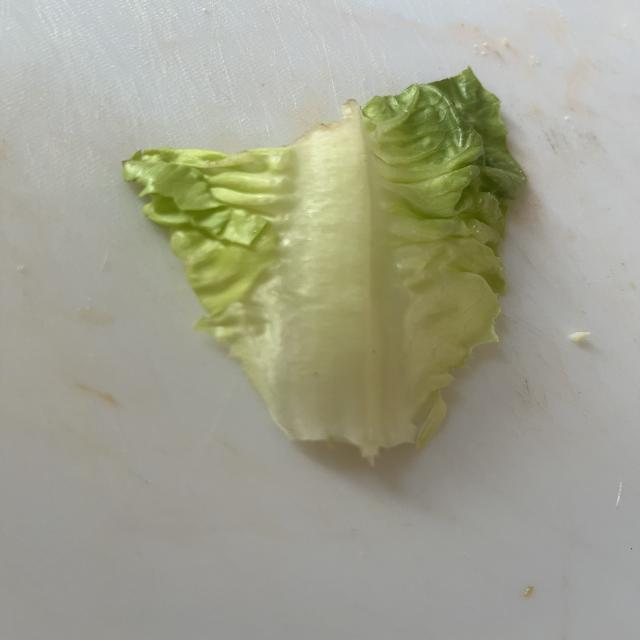lettuce: (123, 69, 525, 461)
